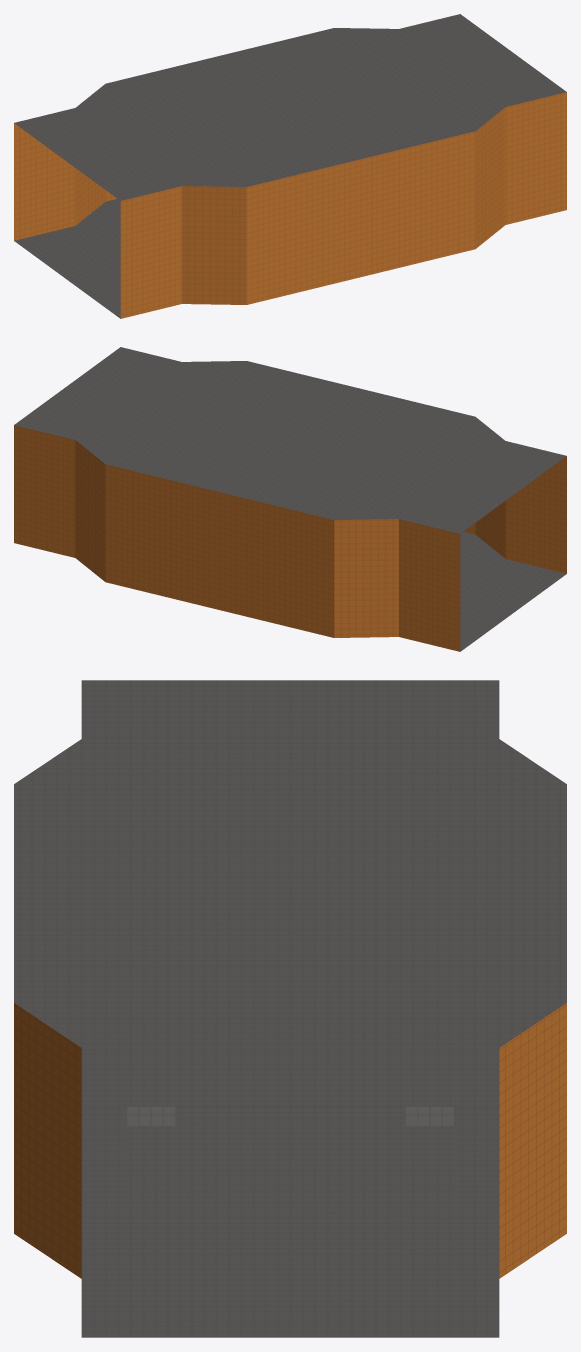
Rendered from plane_test_blend.glb.
The picture shows the model from 3 angles, top to bottom: view 1: azimuth 30°, elevation 25°; view 2: azimuth 150°, elevation 25°; view 3: azimuth 270°, elevation 25°; orthographic projection. The views are drawn at different scales.
Visible parts, largest first — view 1: base; view 2: base; view 3: base, stairs.001, stairs.003.
Boxes of the visible parts, x1,y1,x2,y2 form: base: (14,14,566,318); base: (14,347,566,651); base: (14,680,566,1337); stairs.001: (126,1106,175,1125); stairs.003: (405,1106,454,1125).
Bounding box in the file's own units: 41.09 × 12.19 × 22.52.
Materials: 2 (2 with a texture image).
